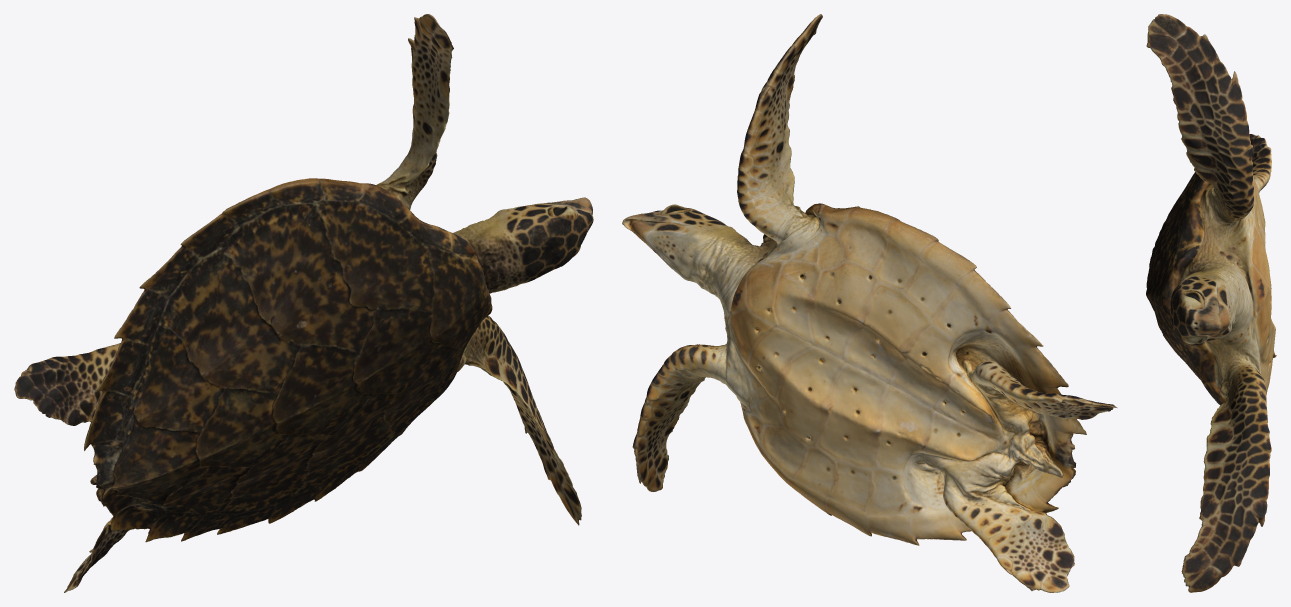
Rendered from sea_turtle-150k-2048-medium.glb.
The picture shows the model from 3 angles, left to right: view 1: azimuth 30°, elevation 25°; view 2: azimuth 150°, elevation 25°; view 3: azimuth 270°, elevation 25°; orthographic projection. The views are drawn at different scales.
Bounding box in the file's own units: 0.4959 × 0.4716 × 0.1103.
Materials: 1 (1 with a texture image).
